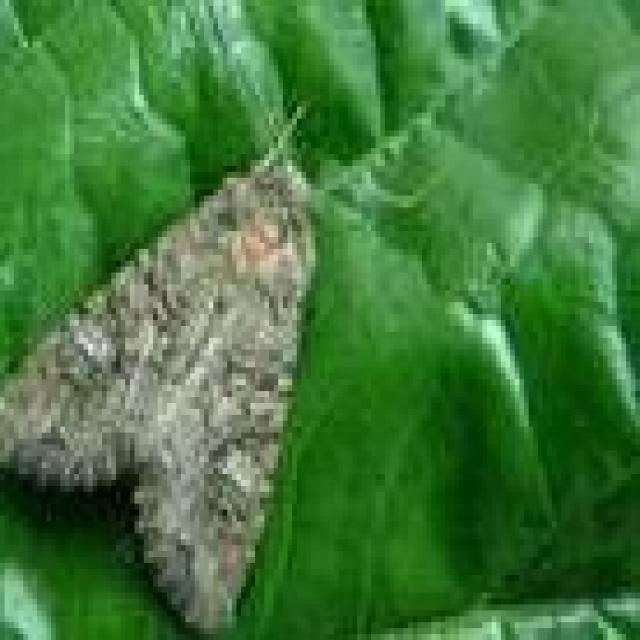armyworm: (5, 124, 323, 640)
